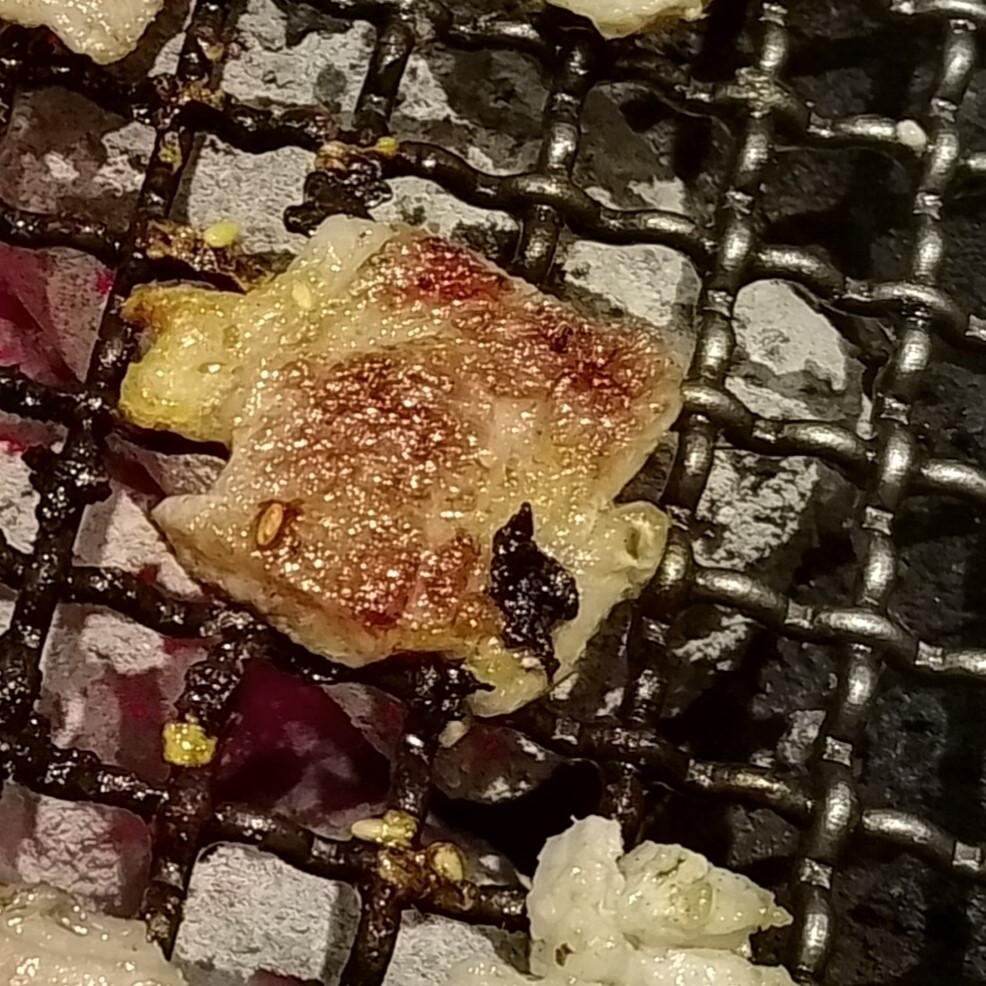Overcooked: (119, 227, 681, 716)
